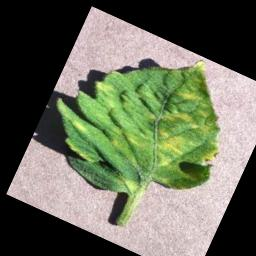Leaf_Mold: (30, 12, 252, 228)
